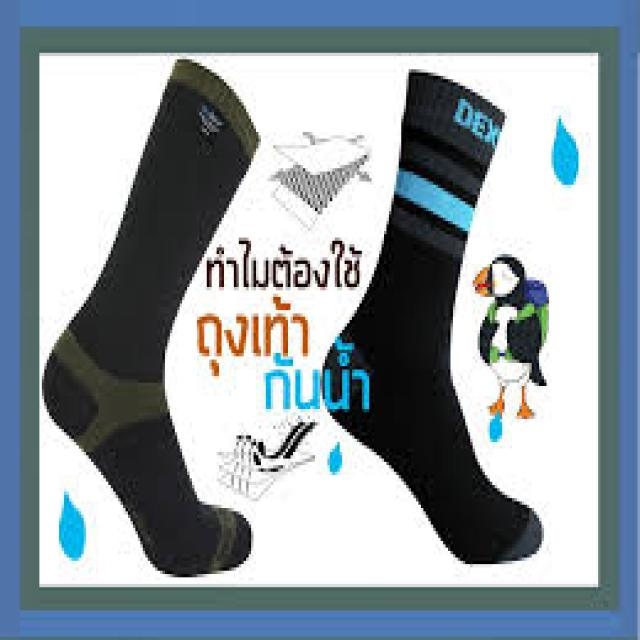sock: (40, 56, 258, 574), (320, 66, 542, 564)
